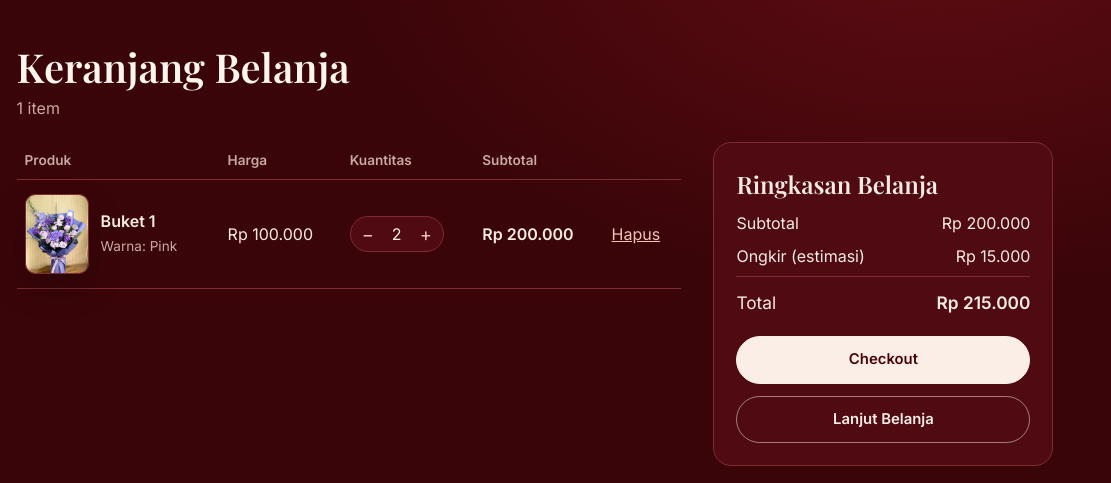
Cart › mengubah jumlah dan menghapus item
The width and height of the screenshot is (1111, 483).
Expected: the text "1 item" is shown, [17, 98, 60, 118]
Expected: the text "Rp 200.000" in the row of "Buket 1" is shown, [482, 224, 574, 244]
Click the button named "Tambah".
click(426, 234)  # box [409, 217, 443, 251]
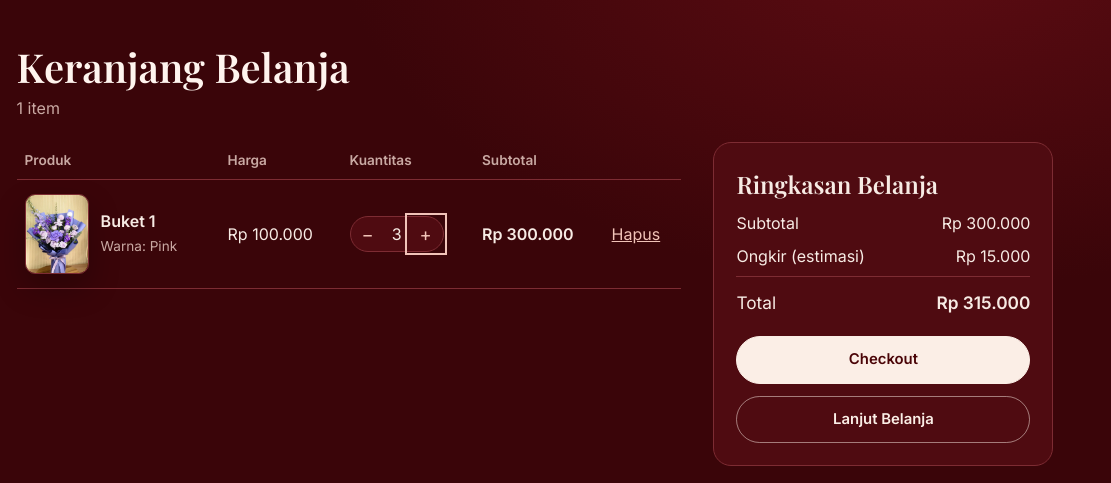
Click the button named "Kurangi".
click(368, 234)  # box [351, 217, 385, 251]
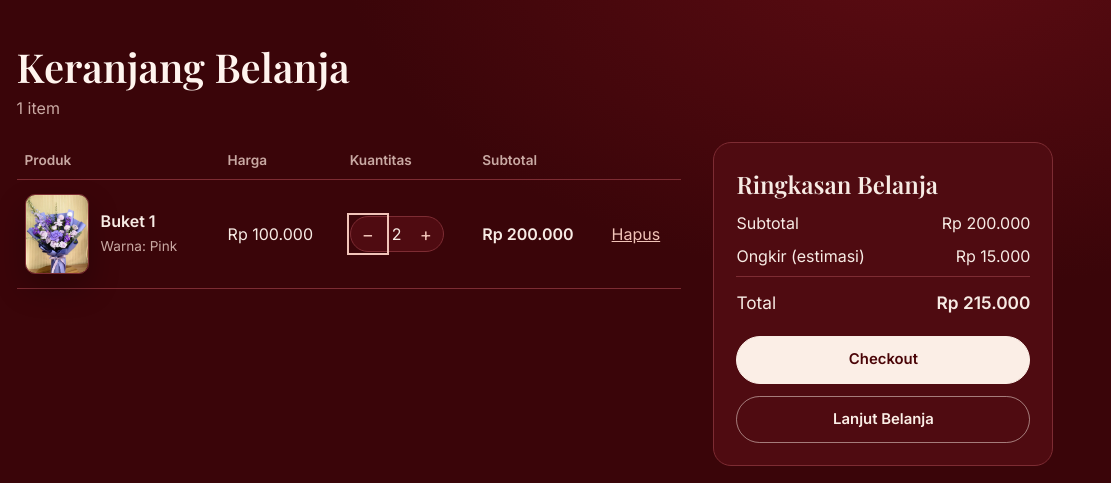
Click the button "Hapus".
click(636, 234)  # box [612, 216, 660, 253]
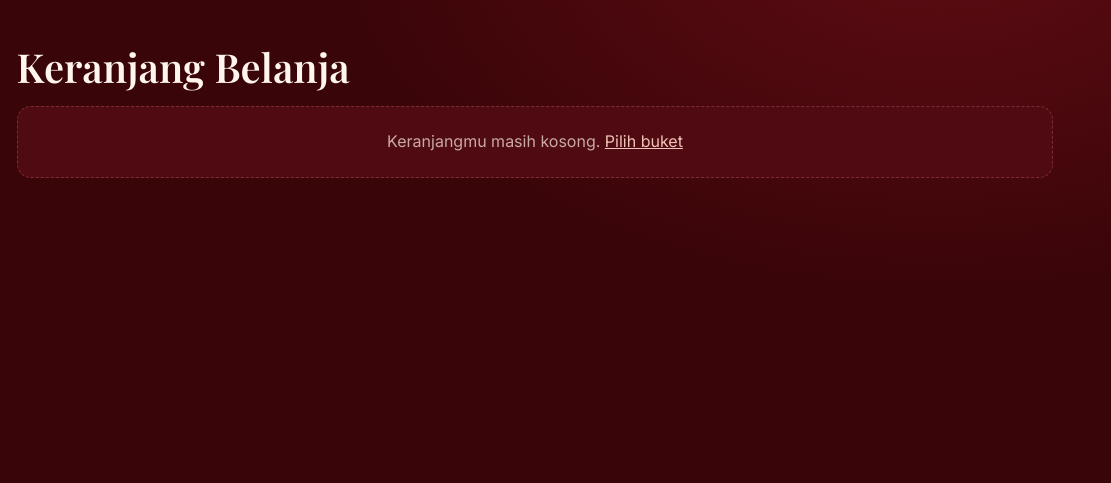
Now the text "Keranjangmu masih kosong. Pilih buket" is shown, box [17, 106, 1053, 178]
